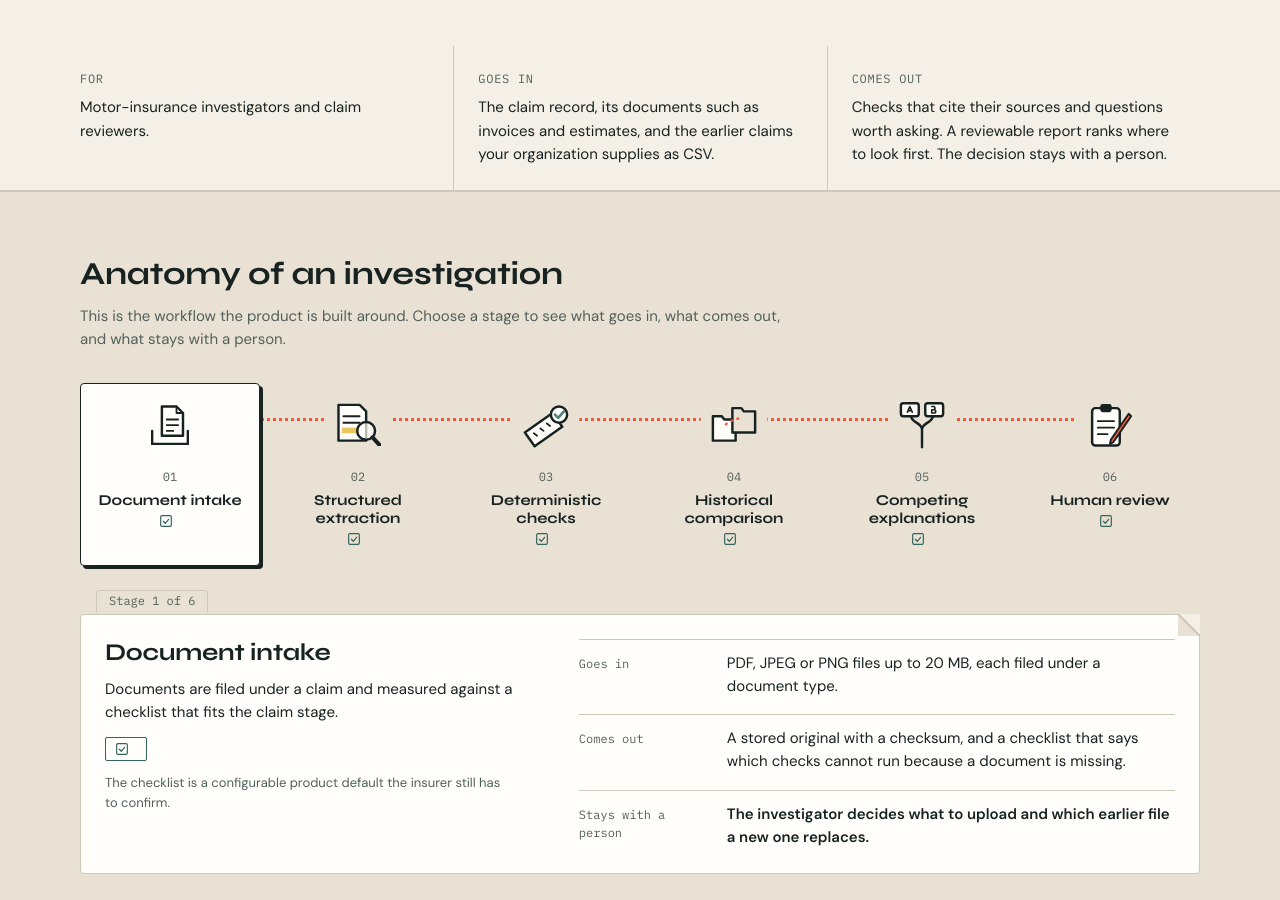
Test: Anatomy of an investigation › shows the chosen stage when clicked
(page scrolled)
Step 1. Click the tab "04 Historical comparison" → (734, 474), box 644,383 -> 824,566
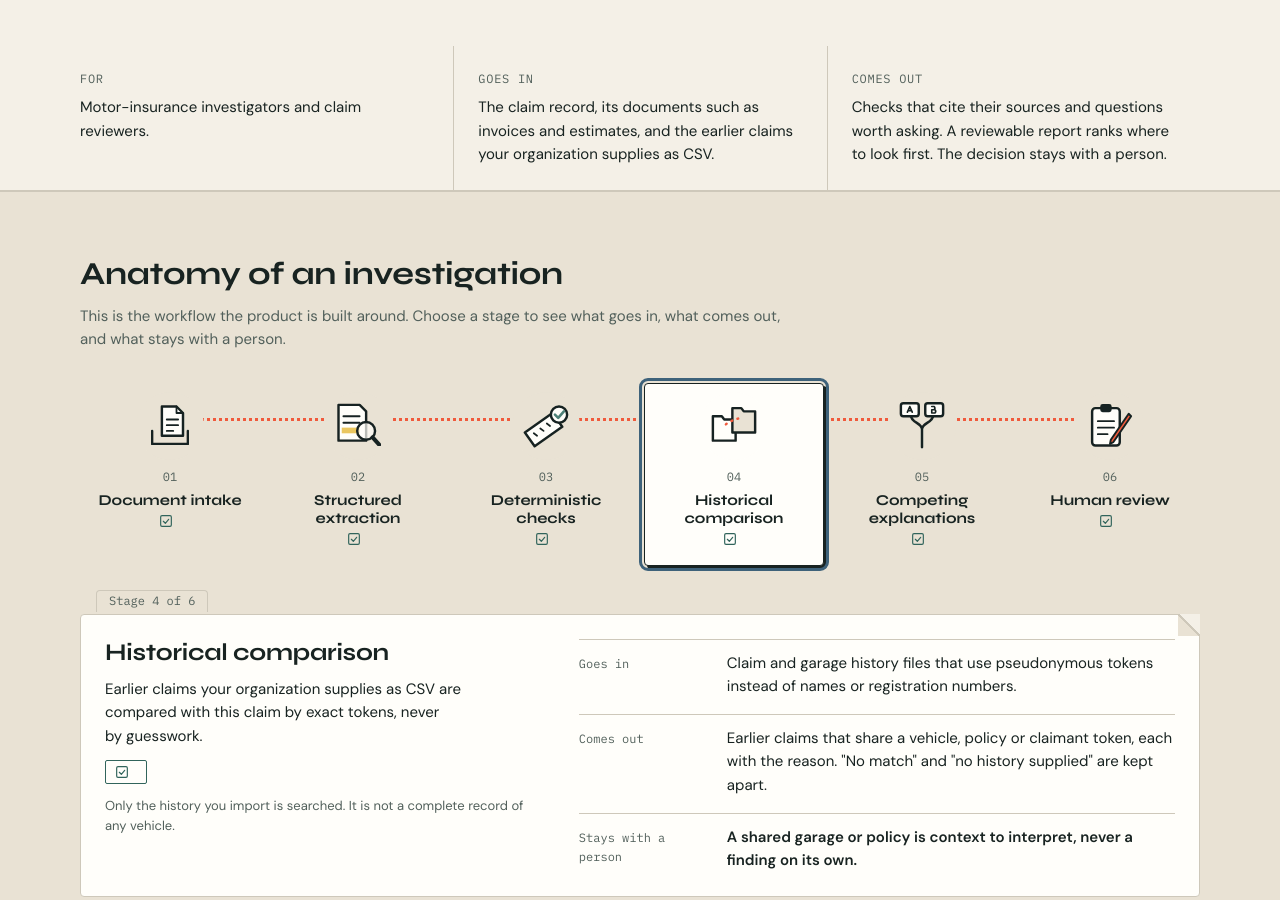
Check: the heading "Historical comparison" is shown, box 105,638 -> 389,666
Check: the text "never a finding on its own" is shown, box 727,827 -> 1133,870
